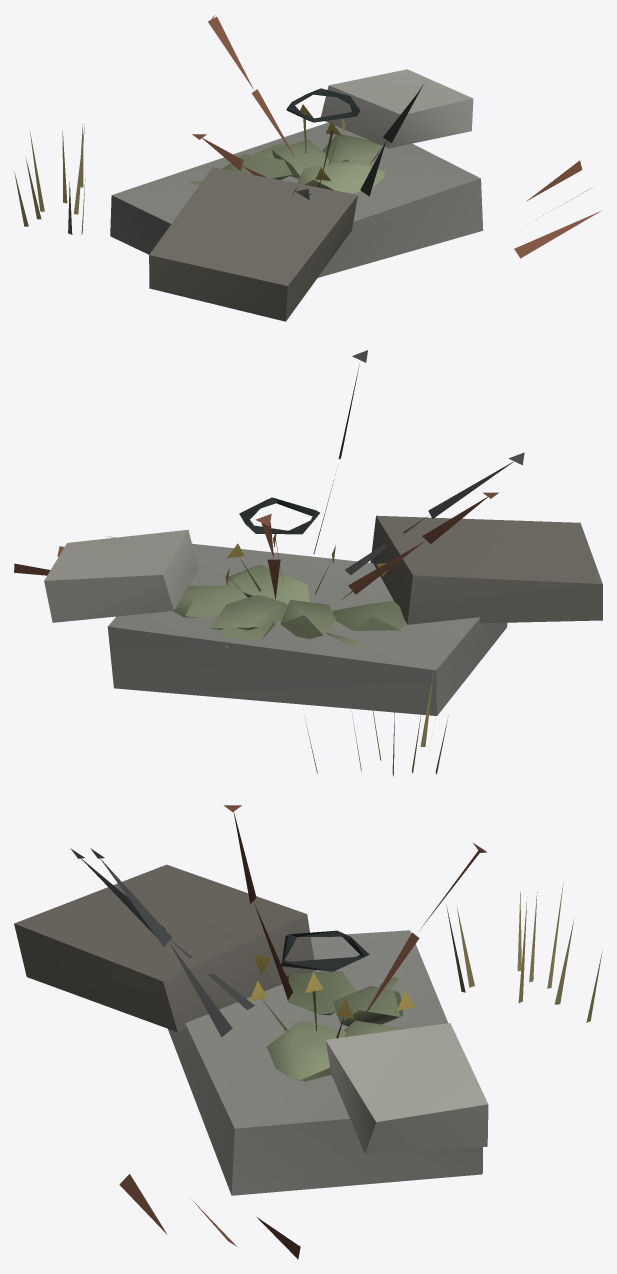
The model's file is rebar_bloom_c_lod2.glb.
3 views of the same model, one above another, from view 1: azimuth 30°, elevation 25°; view 2: azimuth 150°, elevation 25°; view 3: azimuth 270°, elevation 25° (orthographic). The views are drawn at different scales.
Visible parts, largest first — view 1: Surface.001; view 2: Surface.001; view 3: Surface.001.
Boxes of the visible parts, x1=… form: Surface.001: x1=14, y1=15, x2=600, y2=321; Surface.001: x1=14, y1=350, x2=602, y2=776; Surface.001: x1=14, y1=805, x2=602, y2=1259.
Size of the model in its own units: 4.95 by 2.1 by 4.05.
